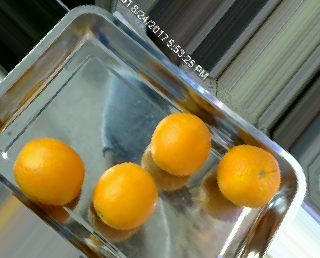Orange: (14, 137, 85, 206), (92, 162, 158, 231), (216, 144, 282, 208), (150, 112, 211, 178)
